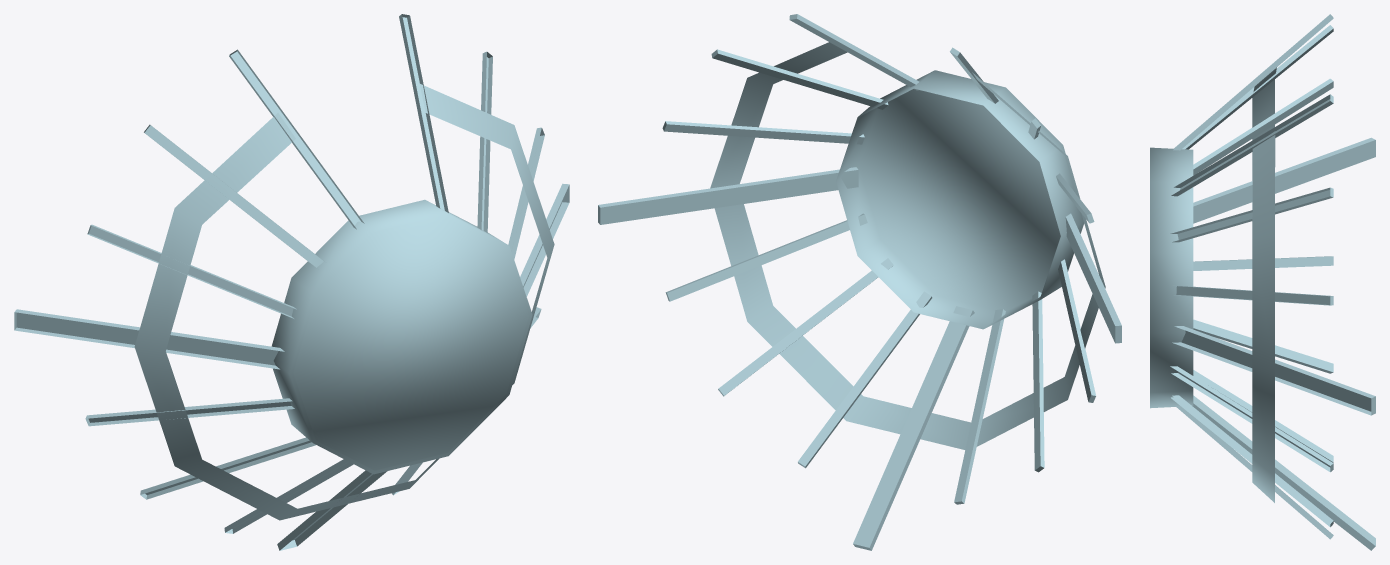
3 renders of one model, left to right at view 1: azimuth 30°, elevation 25°; view 2: azimuth 150°, elevation 25°; view 3: azimuth 270°, elevation 25°, orthographic. The views are drawn at different scales.
Parts seen in each view (by area): view 1: Object14; view 2: Object14; view 3: Object14.
Part boxes in pixels (bbox=[...]): Object14: bbox=[14, 14, 569, 550]; Object14: bbox=[598, 14, 1121, 550]; Object14: bbox=[1150, 14, 1375, 550].
Size of the model in its own units: 28360 by 26020 by 10664.
